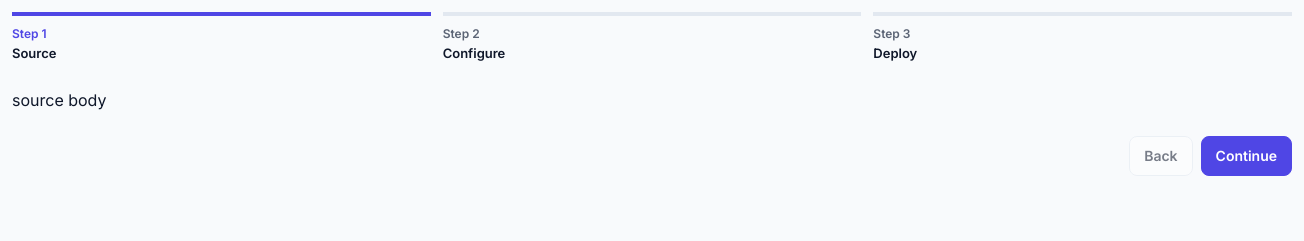
Scenario: StepWizard › blocks moving on when validate returns an error and shows it
Click the button "Continue" at (1246, 156), box [1201,136,1292,176]
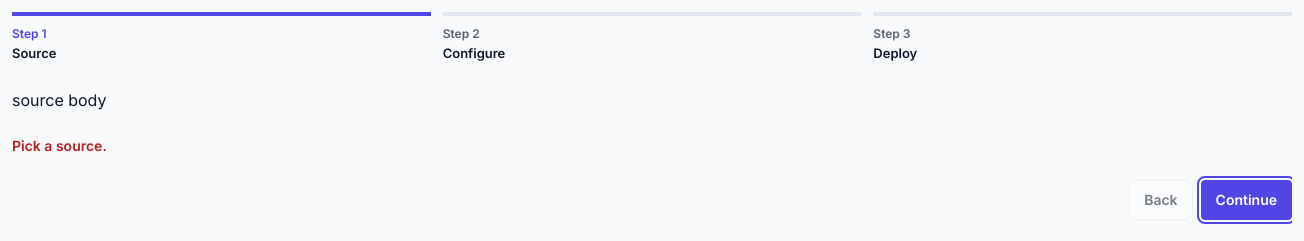
expect the text "source body" is shown: met, box [12,90,106,110]
expect the message reads "Pick a source.": met, box [12,136,107,154]
Click the button "Continue" at (1246, 200), box [1201,180,1292,220]
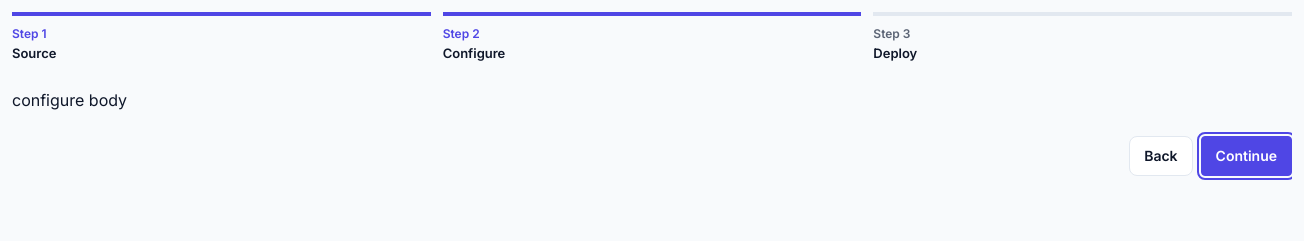
expect the text "configure body" is shown: met, box [12,90,127,110]
expect the message "Pick a source." is gone: met
